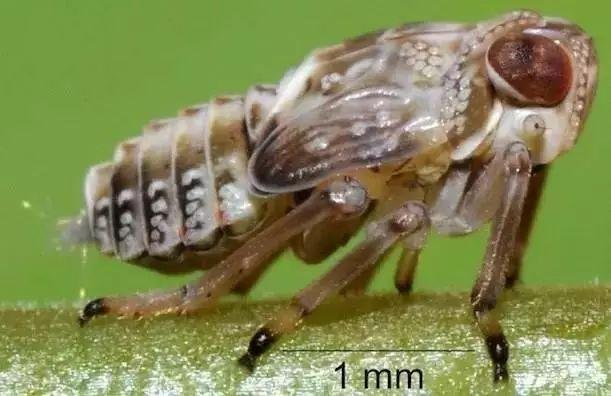Delphacidae: (51, 9, 598, 385)
